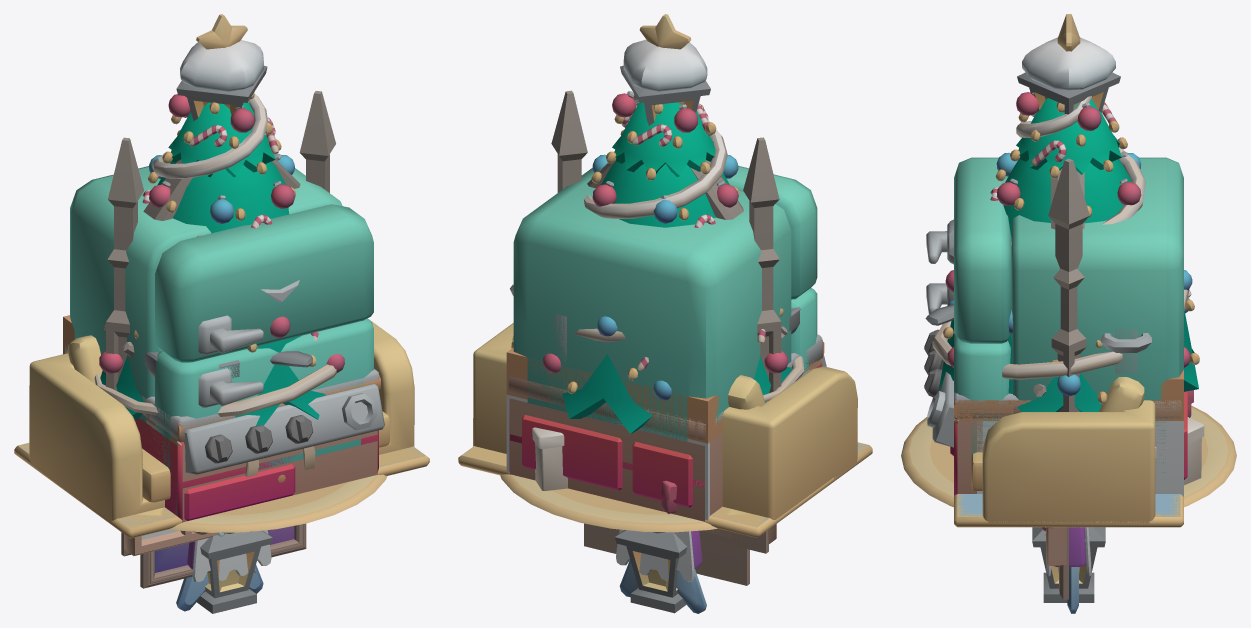
Rendered from kaykit.glb.
3 views of the same model, side by side, from view 1: azimuth 30°, elevation 25°; view 2: azimuth 150°, elevation 25°; view 3: azimuth 270°, elevation 25° (orthographic).
Visible parts, largest first — view 1: kk/fridge_A_decorated, kk/christmas_tree_decorated, kk/couch_pillows, kk/stove_multi_decorated, kk/ornate_mirror, kk/lantern_decorated, kk/crate_carrots, kk/lantern_hanging, kk/rug_rectangle_stripes_A, kk/frame_B_large, kk/ghost_tote, kk/pictureframe_large_B (+2 smaller); view 2: kk/fridge_A_decorated, kk/christmas_tree_decorated, kk/couch_pillows, kk/stove_multi_decorated, kk/ornate_mirror, kk/crate_carrots, kk/kitchencounter_straight_A_backsplash, kk/lantern_decorated, kk/lantern_hanging, kk/frame_B_large, kk/rug_rectangle_stripes_A, kk/table_medium (+3 smaller); view 3: kk/fridge_A_decorated, kk/christmas_tree_decorated, kk/couch_pillows, kk/stove_multi_decorated, kk/ornate_mirror, kk/lantern_decorated, kk/kitchencounter_straight_A_backsplash, kk/rug_rectangle_stripes_A, kk/lantern_hanging, kk/crate_carrots, kk/rug_rectangle_B, kk/ghost_tote (+2 smaller).
Boxes of the visible parts, x1=… form: kk/fridge_A_decorated: x1=70, y1=154, x2=373, y2=472; kk/christmas_tree_decorated: x1=94, y1=14, x2=387, y2=532; kk/couch_pillows: x1=29, y1=319, x2=414, y2=522; kk/stove_multi_decorated: x1=65, y1=341, x2=384, y2=522; kk/ornate_mirror: x1=106, y1=91, x2=335, y2=391; kk/lantern_decorated: x1=176, y1=40, x2=267, y2=120; kk/crate_carrots: x1=170, y1=430, x2=377, y2=522; kk/lantern_hanging: x1=197, y1=530, x2=272, y2=613; kk/rug_rectangle_stripes_A: x1=14, y1=443, x2=429, y2=538; kk/frame_B_large: x1=140, y1=523, x2=306, y2=588; kk/ghost_tote: x1=187, y1=530, x2=271, y2=582; kk/pictureframe_large_B: x1=124, y1=529, x2=212, y2=555; kk/fridge_A_decorated: x1=513, y1=166, x2=817, y2=468; kk/christmas_tree_decorated: x1=500, y1=14, x2=804, y2=532; kk/couch_pillows: x1=473, y1=323, x2=857, y2=519; kk/stove_multi_decorated: x1=509, y1=284, x2=826, y2=507; kk/ornate_mirror: x1=551, y1=90, x2=781, y2=392; kk/crate_carrots: x1=510, y1=360, x2=822, y2=521; kk/kitchencounter_straight_A_backsplash: x1=506, y1=342, x2=824, y2=520; kk/lantern_decorated: x1=620, y1=39, x2=710, y2=125; kk/lantern_hanging: x1=614, y1=530, x2=687, y2=613; kk/frame_B_large: x1=584, y1=523, x2=749, y2=585; kk/rug_rectangle_stripes_A: x1=458, y1=442, x2=872, y2=537; kk/table_medium: x1=508, y1=340, x2=822, y2=440; kk/fridge_A_decorated: x1=926, y1=157, x2=1183, y2=472; kk/christmas_tree_decorated: x1=901, y1=14, x2=1236, y2=507; kk/couch_pillows: x1=971, y1=377, x2=1155, y2=523; kk/stove_multi_decorated: x1=924, y1=304, x2=1187, y2=495; kk/ornate_mirror: x1=1048, y1=158, x2=1089, y2=411; kk/lantern_decorated: x1=1017, y1=37, x2=1120, y2=114; kk/kitchencounter_straight_A_backsplash: x1=954, y1=370, x2=1183, y2=496; kk/rug_rectangle_stripes_A: x1=954, y1=494, x2=1183, y2=527; kk/lantern_hanging: x1=1032, y1=527, x2=1105, y2=602; kk/crate_carrots: x1=954, y1=420, x2=982, y2=493; kk/rug_rectangle_B: x1=957, y1=494, x2=1180, y2=516; kk/ghost_tote: x1=1046, y1=527, x2=1091, y2=576.
Bounding box in the file's own units: 3 × 5.58 × 2.92.
